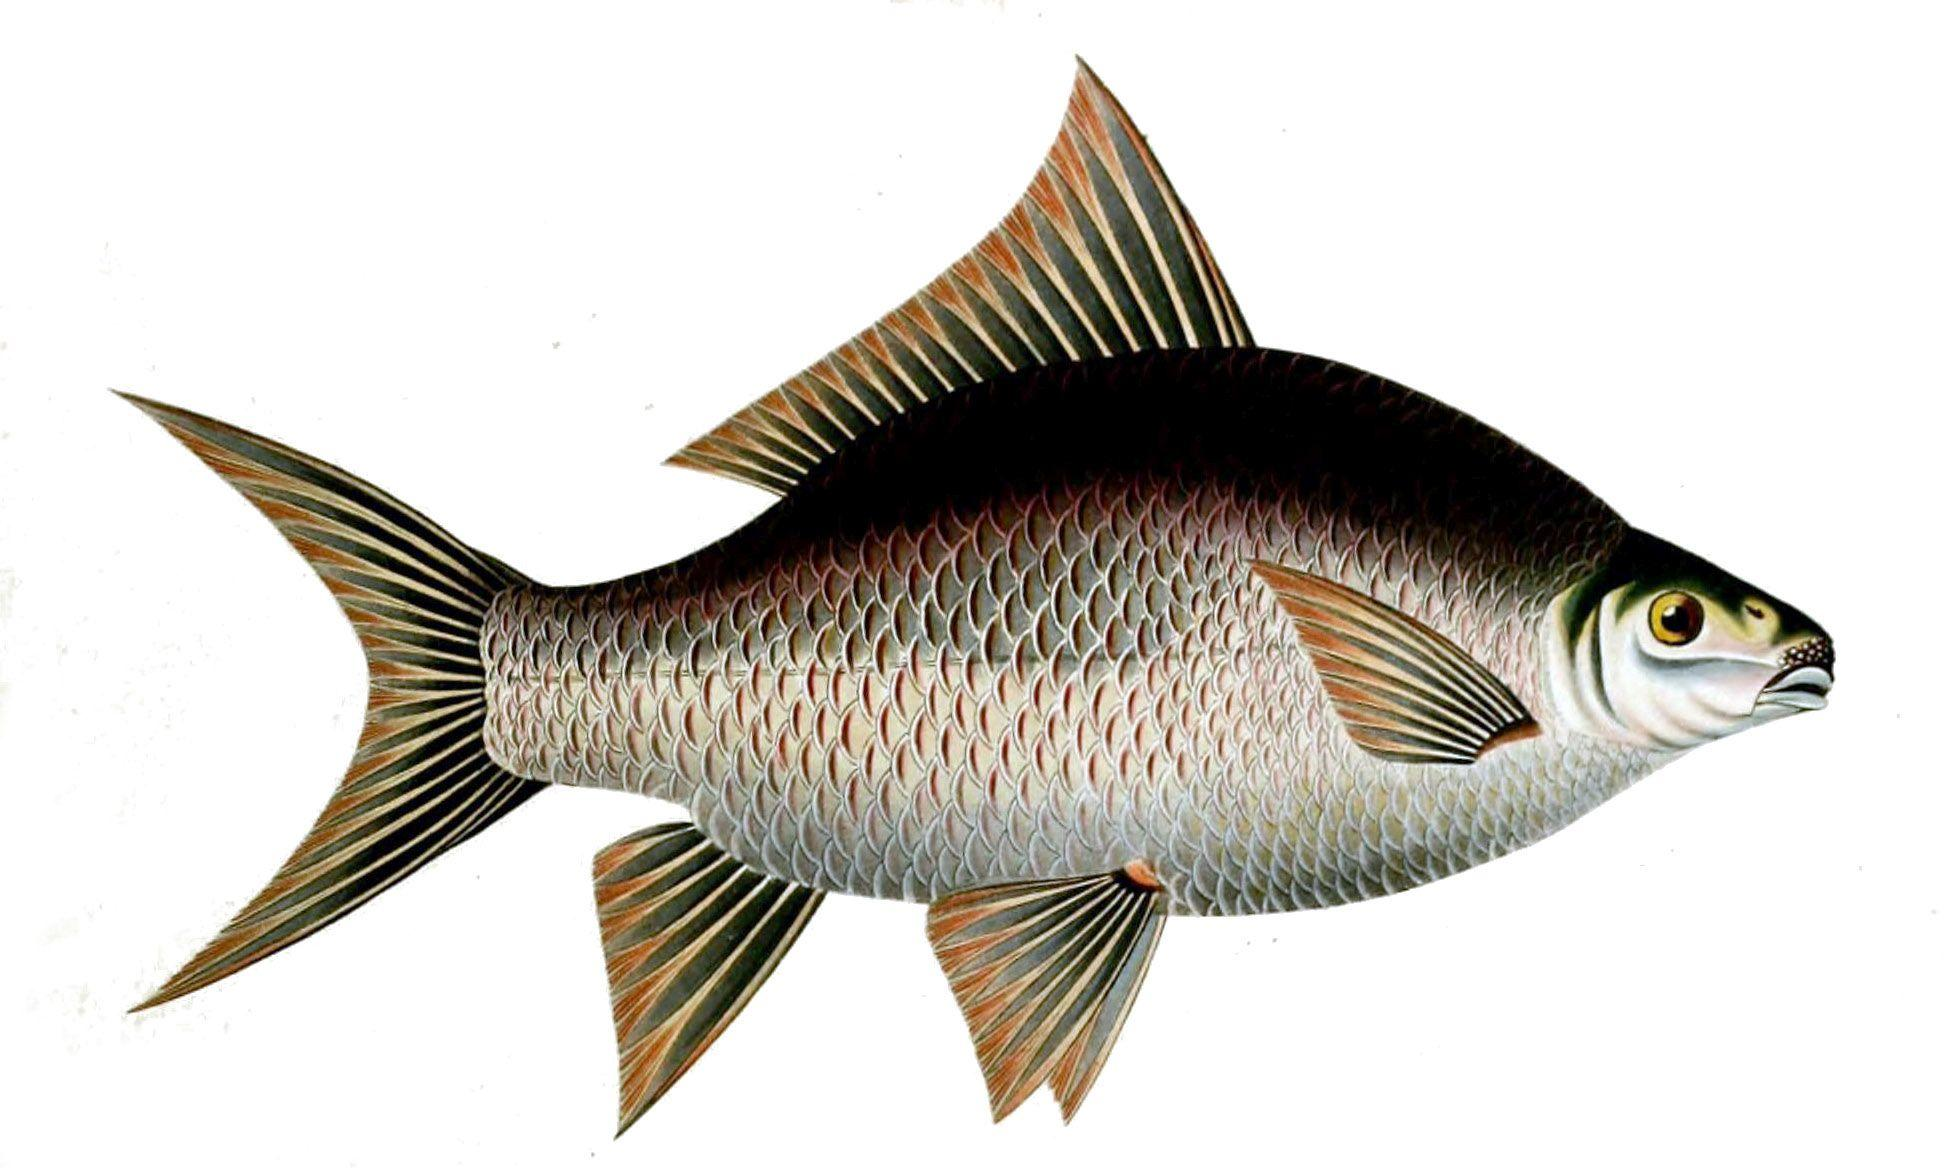Indian Carp: (111, 47, 1837, 1140)
